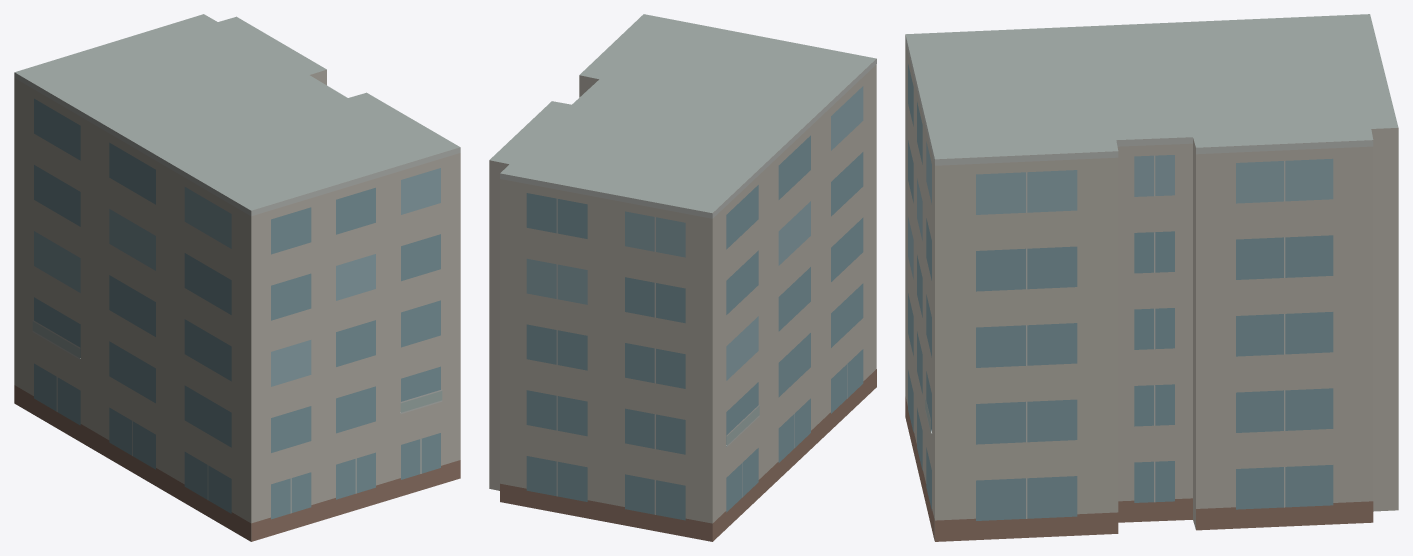
The model's file is survey-upis-32663244.glb.
3 views of the same model, side by side, from view 1: azimuth 30°, elevation 25°; view 2: azimuth 150°, elevation 25°; view 3: azimuth 270°, elevation 25° (orthographic). The views are drawn at different scales.
Visible parts, largest first — view 1: survey-upis-32663244.tmp; view 2: survey-upis-32663244.tmp; view 3: survey-upis-32663244.tmp.
Part boxes in pixels (left/top/right/bottom): survey-upis-32663244.tmp: left=14, top=14, right=460, bottom=541; survey-upis-32663244.tmp: left=489, top=14, right=876, bottom=541; survey-upis-32663244.tmp: left=905, top=14, right=1398, bottom=541.
Size of the model in its own units: 11.74 by 14.4 by 16.83.
